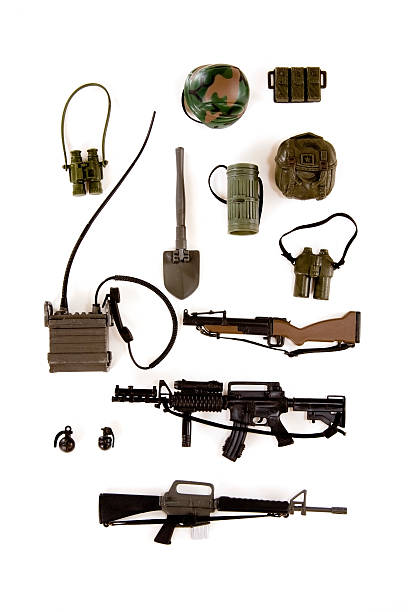e1: (53, 424, 73, 453), (97, 428, 116, 451)
